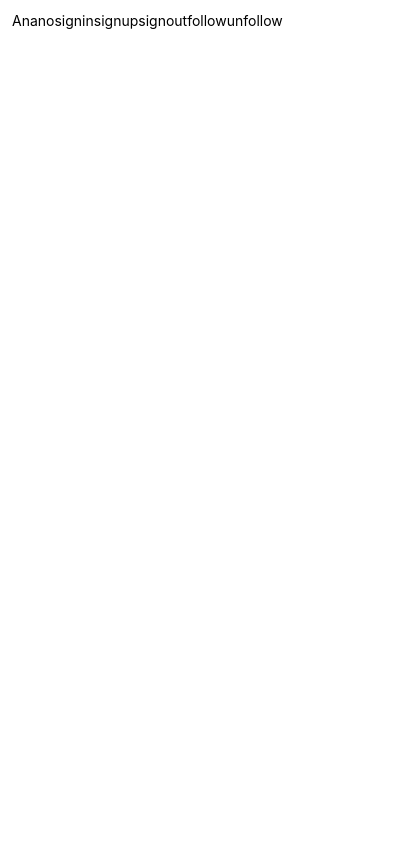
AuthProvider › signOut limpa token e usuário
This screenshot has width=402, height=856.
Check: the text with test id "user" reads "Ana", box 12,12 -> 38,29
Step 1. Click the button labelled "signout" → (163, 434), box 138,12 -> 187,855
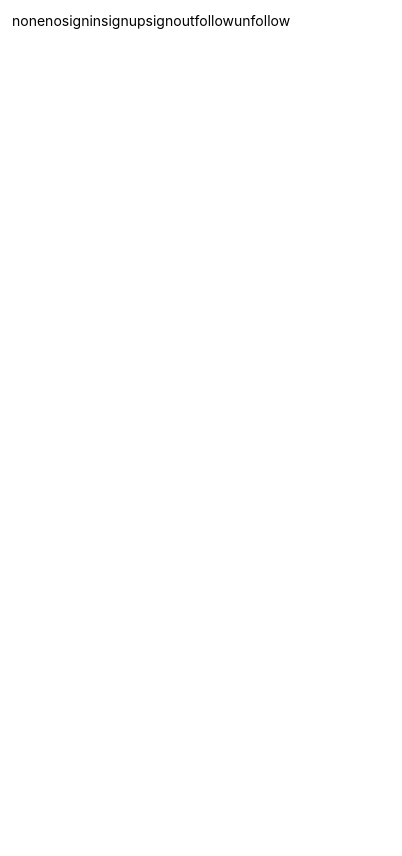
Check: the text with test id "user" reads "none", box 12,12 -> 45,29
